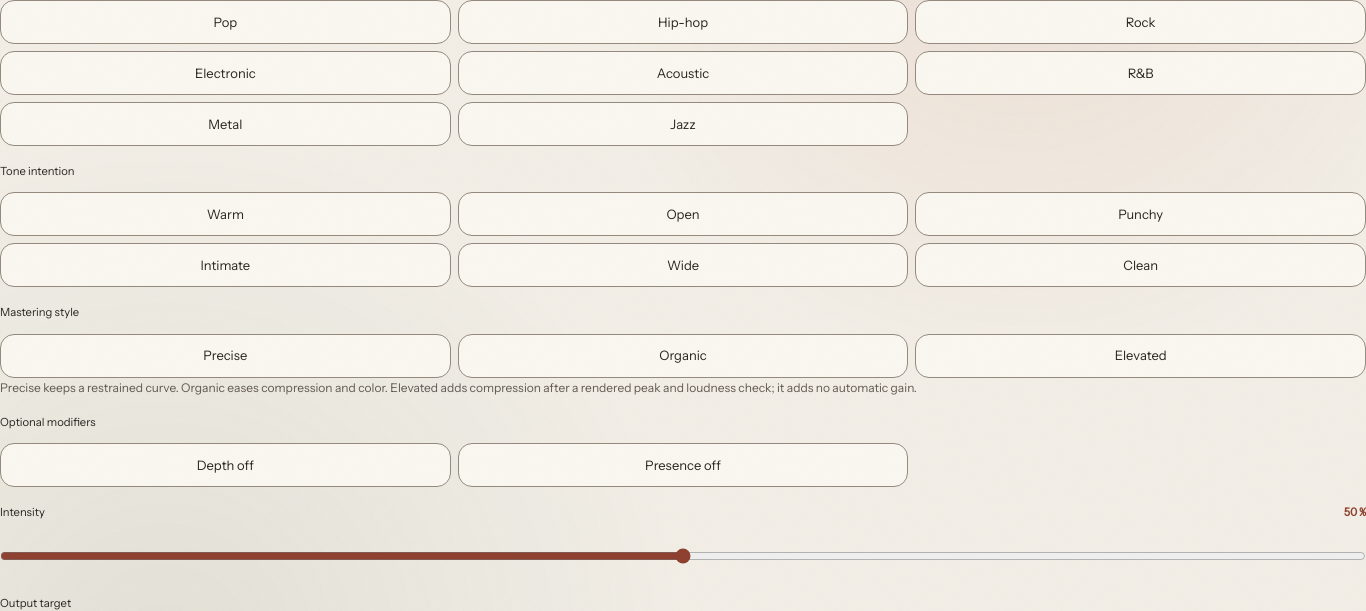
it: Simple style controls › keeps settings audible during a check, discards cancellation and accepts only the current checked candidate
What coordinates should you click on to do the following:
click the button "Elevated"
I would click on:
 (1141, 356)
Its box is left=915, top=334, right=1365, bottom=378.
(page scrolled)
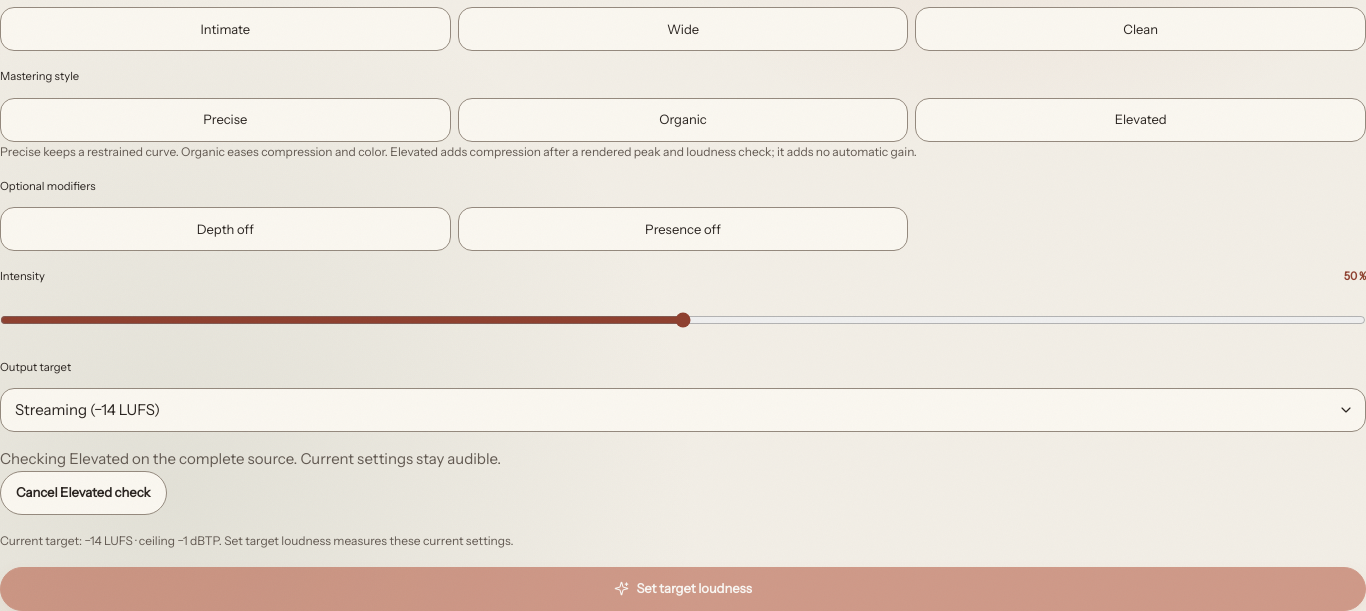
Now the button "Cancel Elevated check" is shown
What coordinates should you click on to do the following:
click the button "Cancel Elevated check"
I would click on:
 (83, 493)
Its box is left=0, top=471, right=167, bottom=515.
(page scrolled)
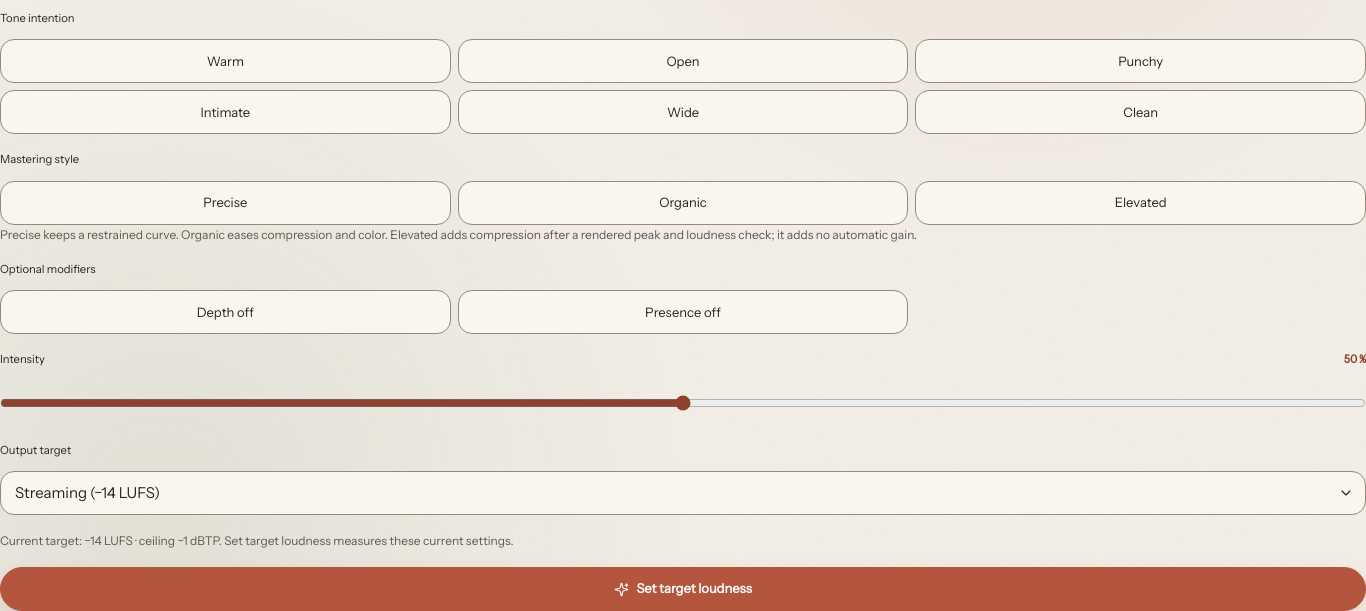
What coordinates should you click on to do the following:
click the button "Elevated"
I would click on:
 (1141, 202)
Its box is left=915, top=180, right=1365, bottom=224.
(page scrolled)
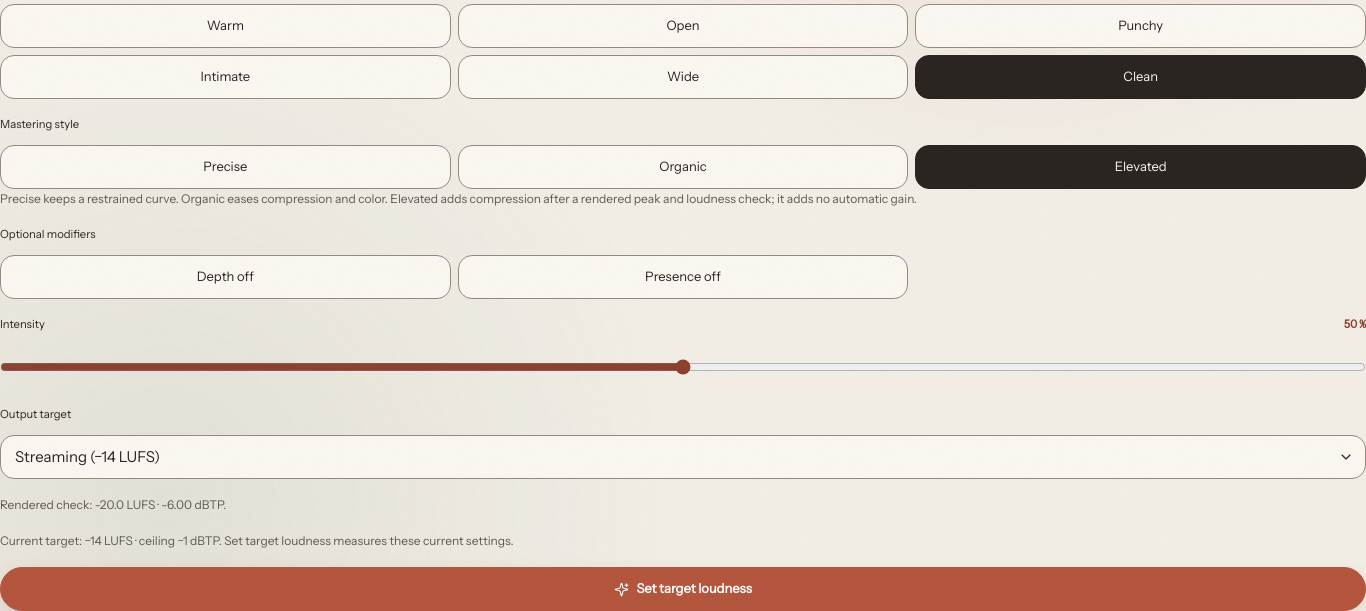
Now the text "Rendered check: -20.0 LUFS · -6.00 dBTP." is shown, box left=0, top=497, right=226, bottom=512
